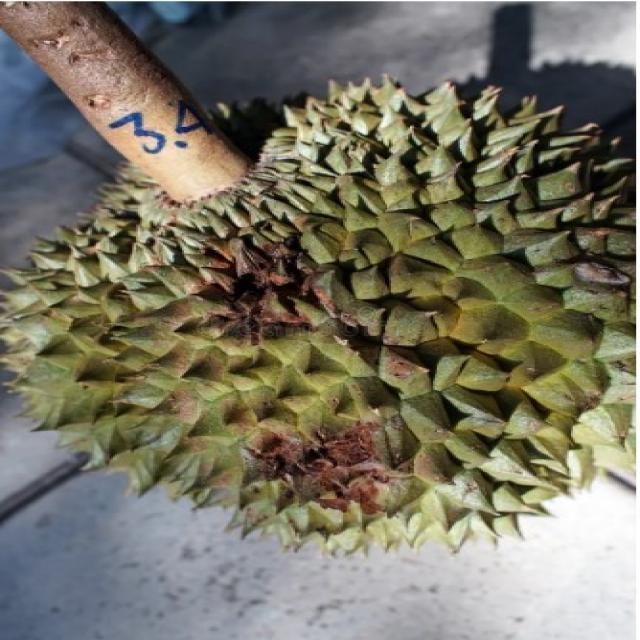defective: (0, 69, 640, 531)
